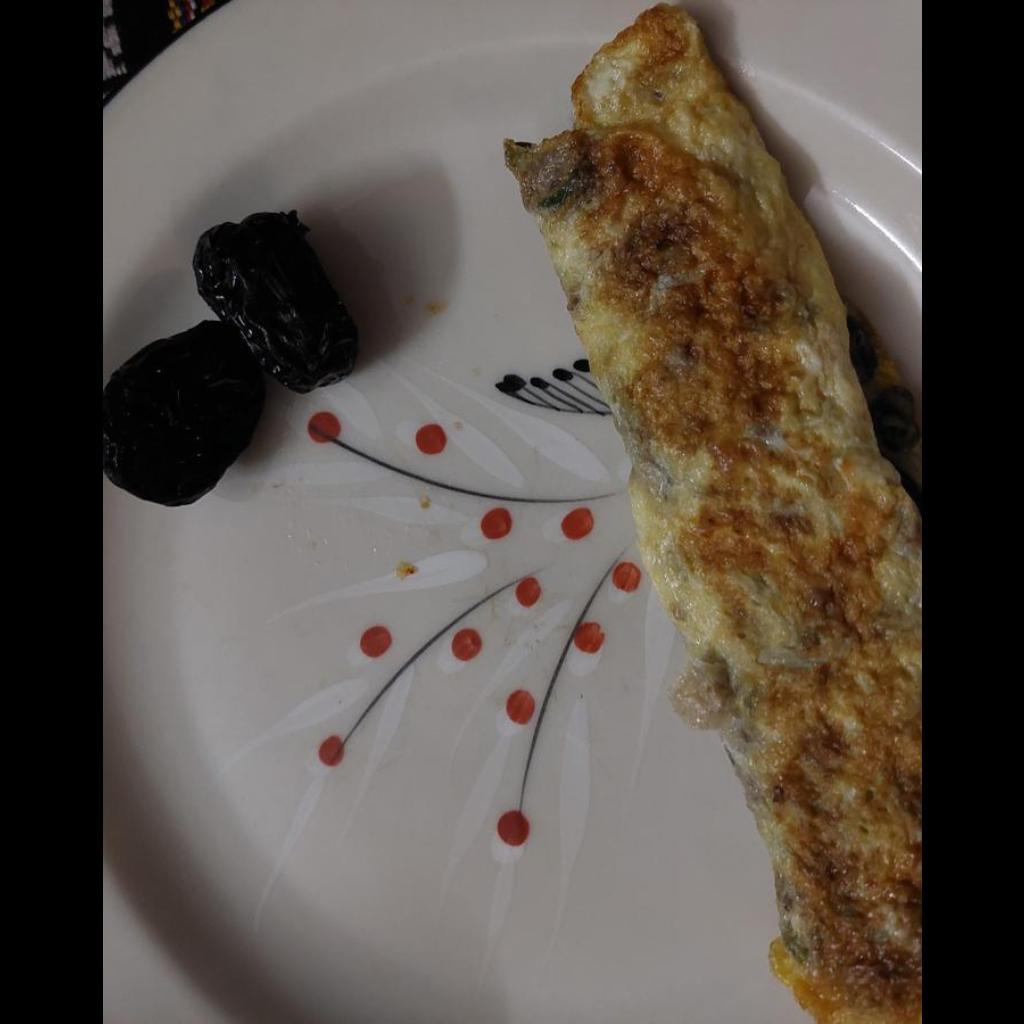dates: (102, 213, 358, 499)
egg-poached: (498, 0, 920, 1023)
